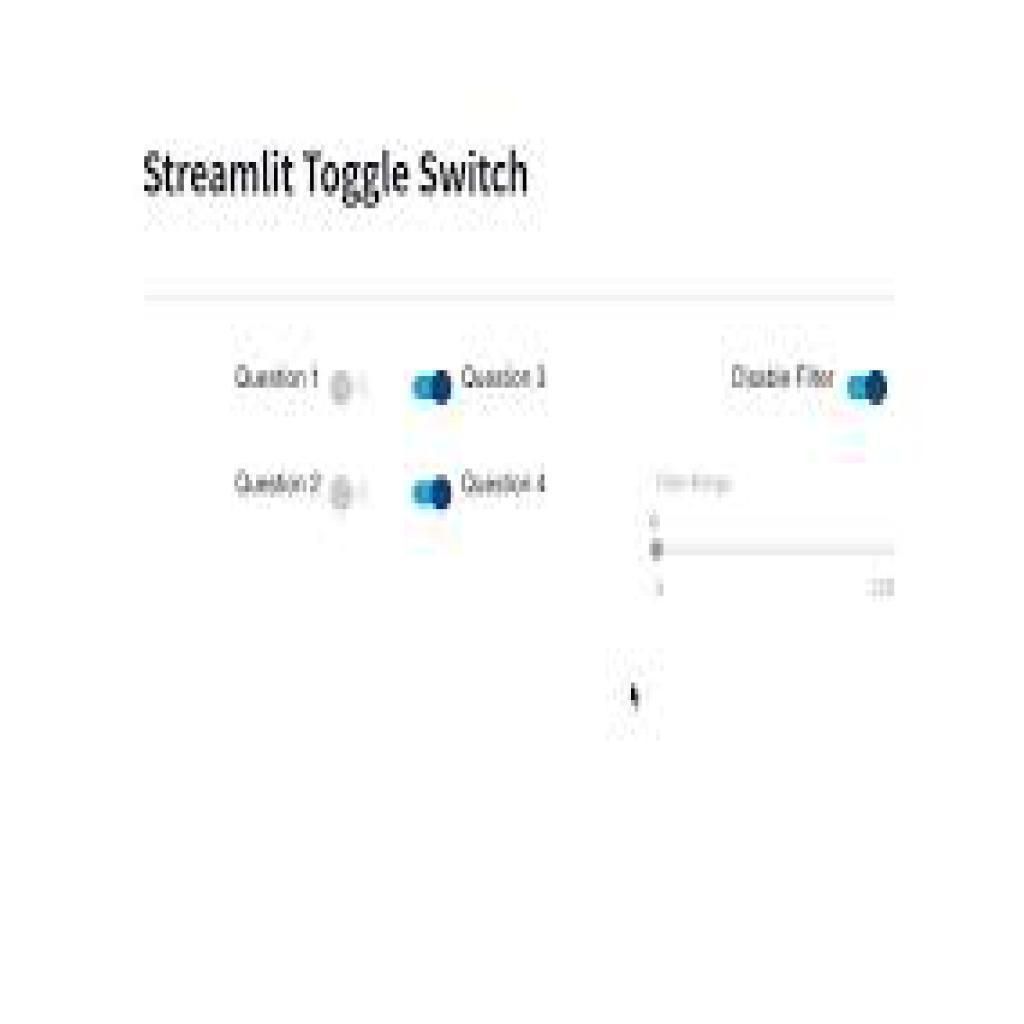label: (722, 359, 840, 399), (456, 464, 555, 502), (225, 464, 326, 499), (458, 359, 548, 398), (231, 360, 321, 399)
radio: (325, 472, 362, 522), (324, 362, 357, 411)
switch: (402, 465, 455, 529), (404, 358, 459, 415), (841, 358, 890, 417)
